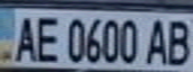0: (118, 15, 142, 65), (63, 14, 87, 63), (103, 15, 121, 64)
6: (84, 15, 103, 64)
A: (9, 11, 39, 63), (145, 16, 172, 65)
B: (163, 16, 193, 66)
E: (33, 11, 63, 63)
